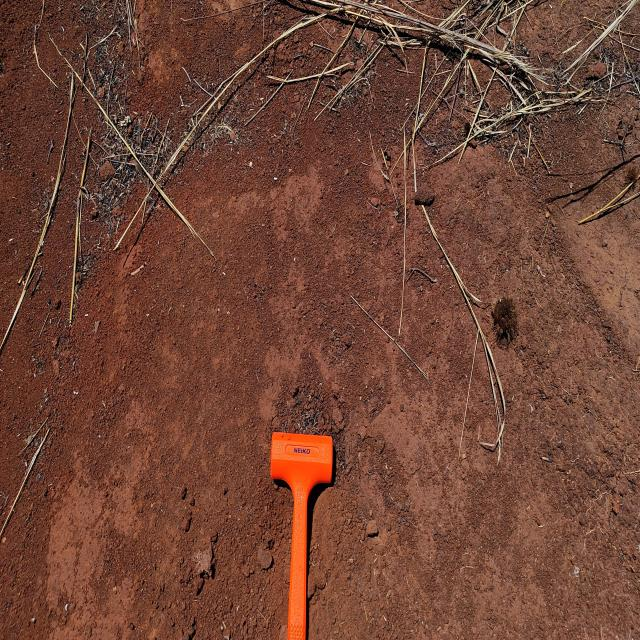Orange_hammer: (270, 430, 334, 638)
